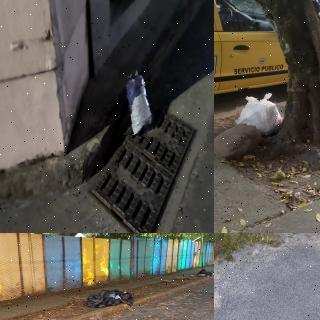Garbage: (121, 64, 160, 137), (236, 88, 288, 138), (86, 293, 103, 308), (107, 295, 121, 306), (119, 291, 130, 303), (198, 268, 214, 276)
